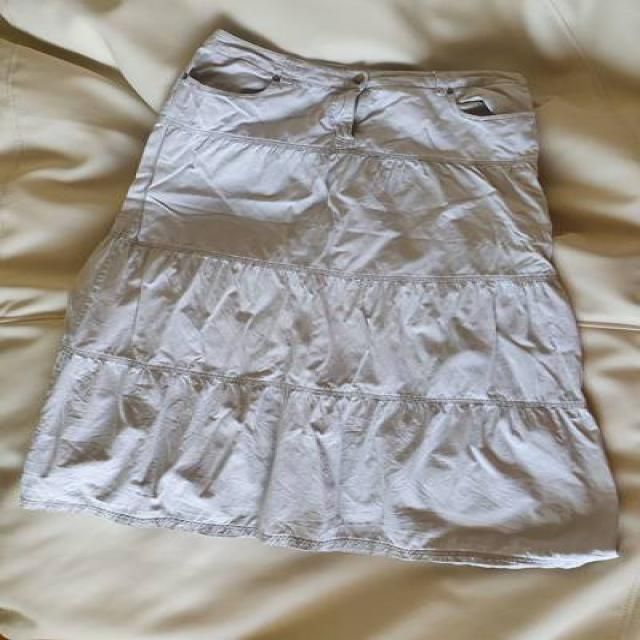skirt: (17, 20, 628, 579)
